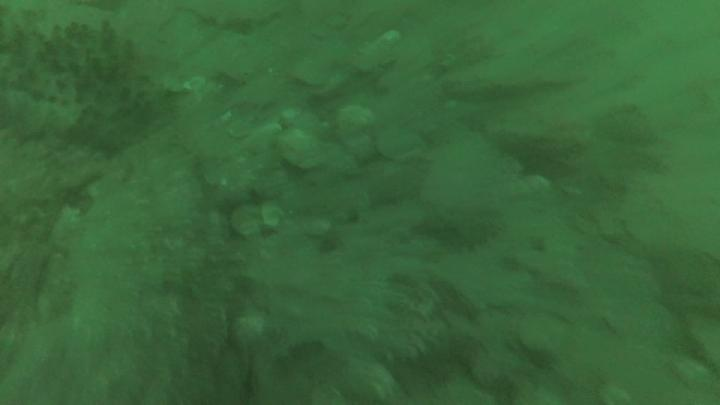scallop: (276, 128, 326, 170)
